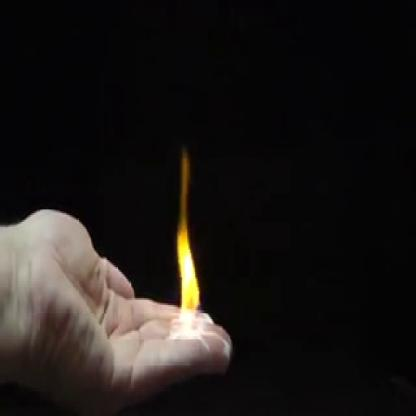fire: (170, 225, 204, 335)
